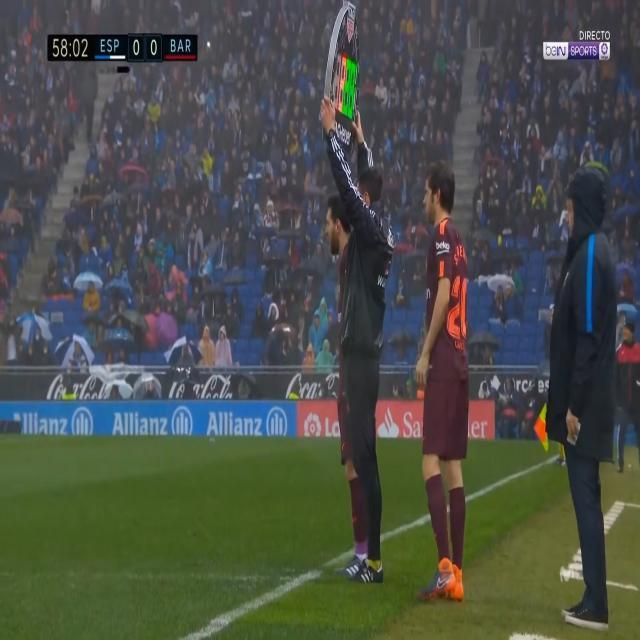player: (406, 148, 481, 628)
